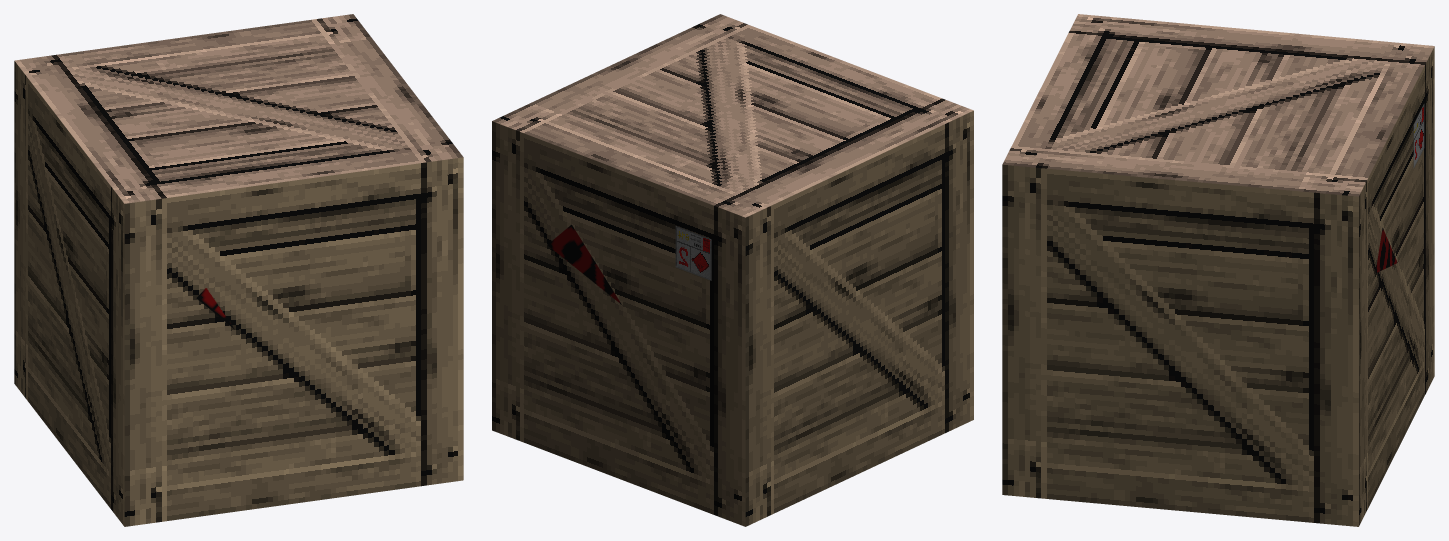
Rendered from primary_044.glb.
3 renders of one model, left to right at view 1: azimuth 30°, elevation 25°; view 2: azimuth 150°, elevation 25°; view 3: azimuth 270°, elevation 25°, orthographic. The views are drawn at different scales.
Visible parts, largest first — view 1: Object; view 2: Object; view 3: Object.
Boxes of the visible parts, x1=… form: Object: x1=14, y1=14, x2=463, y2=526; Object: x1=492, y1=14, x2=973, y2=526; Object: x1=1002, y1=14, x2=1434, y2=526.
Bounding box in the file's own units: 1.13 × 0.9501 × 1.13.
7 materials, 7 textured.
